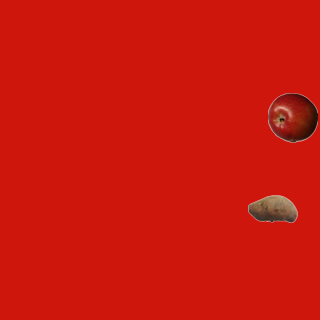Apple Braeburn: (267, 92, 317, 142)
Potato Sweet: (247, 183, 297, 233)
